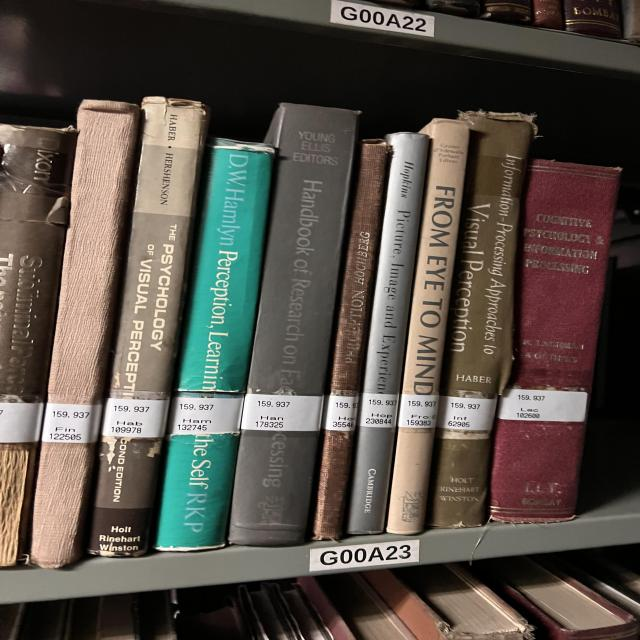Book: (228, 104, 358, 546), (88, 98, 208, 556), (30, 100, 140, 569), (155, 139, 275, 551), (490, 160, 620, 522), (428, 111, 537, 528), (387, 119, 470, 535), (0, 125, 77, 566), (347, 132, 430, 535), (313, 140, 390, 540)
Label: (497, 389, 588, 422), (242, 394, 323, 431), (170, 396, 243, 435), (102, 398, 168, 438), (42, 402, 102, 444), (437, 396, 497, 431), (0, 402, 43, 442), (358, 392, 398, 428), (398, 394, 438, 429), (323, 395, 358, 431)
